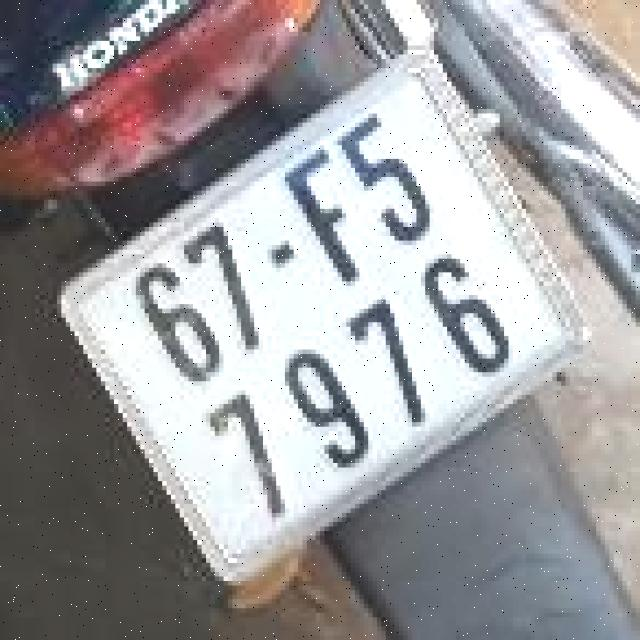5: (322, 98, 460, 263)
6: (406, 234, 530, 394), (116, 241, 239, 401)
7: (329, 281, 451, 450), (186, 378, 312, 537), (171, 207, 290, 367)
9: (265, 325, 390, 496)
F: (264, 134, 390, 305)
